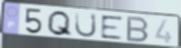4: (154, 18, 174, 45)
5: (24, 7, 44, 35)
B: (124, 15, 150, 43)
E: (100, 14, 125, 40)
Q: (46, 10, 74, 38)
U: (74, 11, 98, 39)
